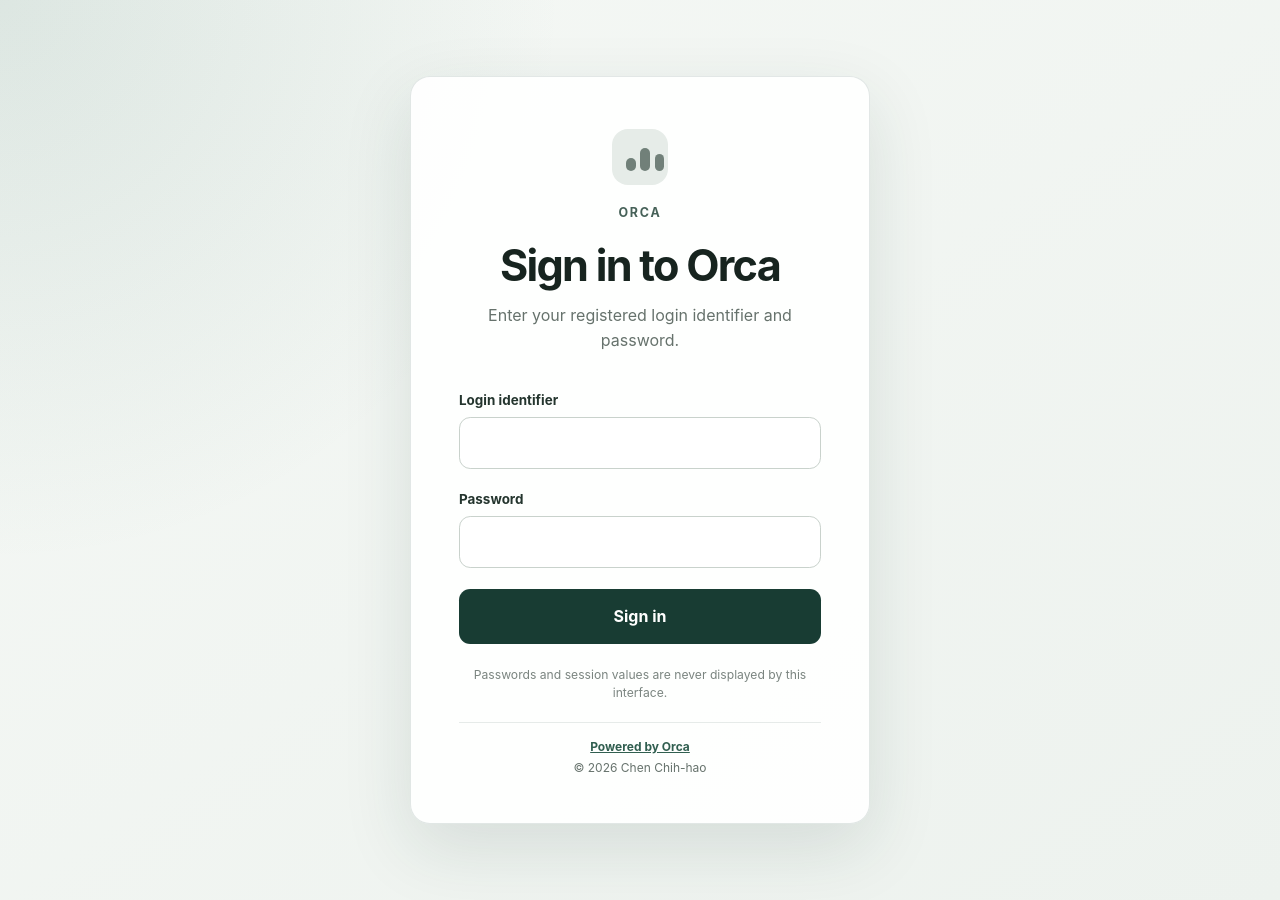
Test: frontend login result shell › does not show a login reference for another stable API error
The width and height of the screenshot is (1280, 900).
Type "orca-user" into the field labelled "Login identifier" at (640, 443), box [459, 417, 821, 469]
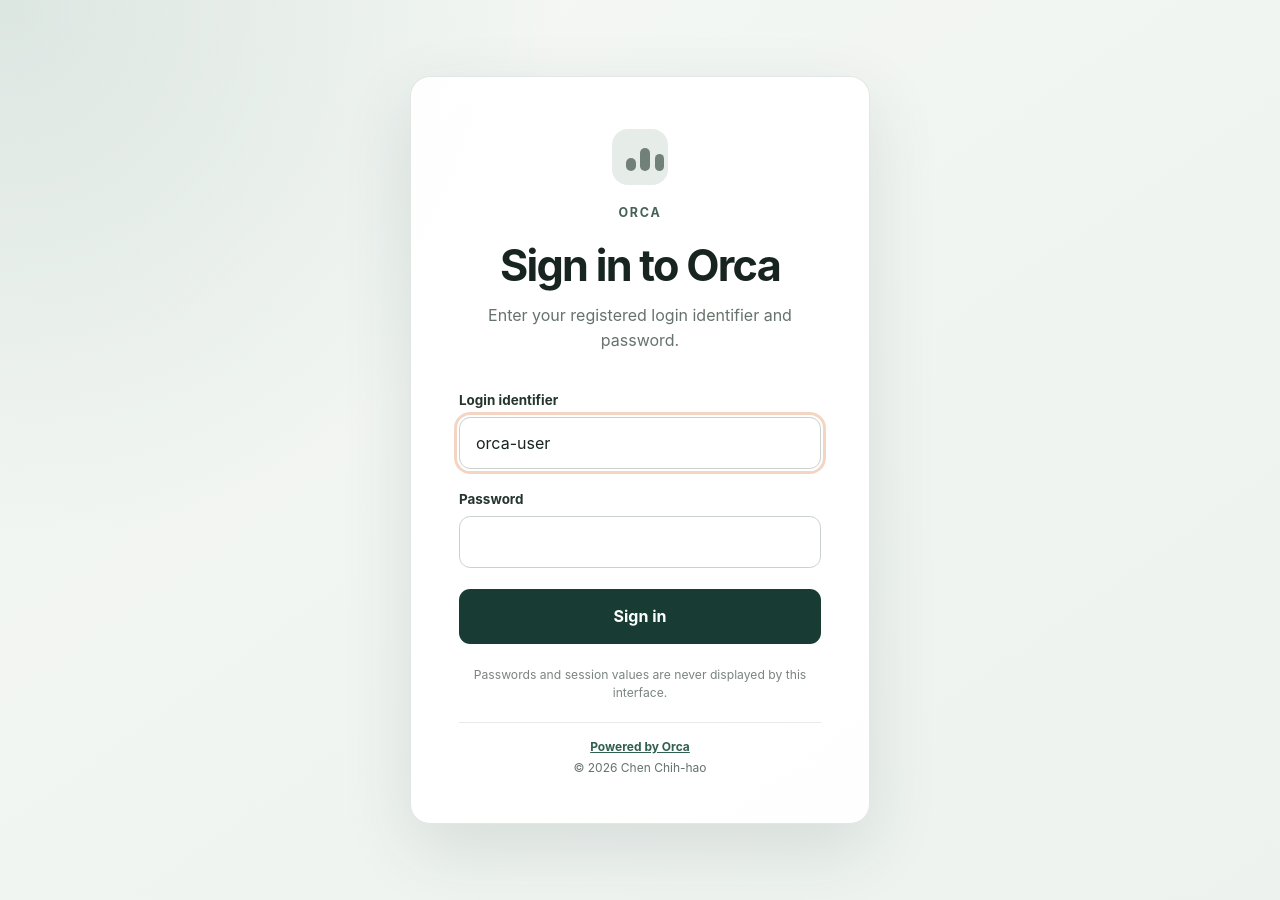
Type "password" into the password field labelled "Password" at (640, 542), box [459, 516, 821, 568]
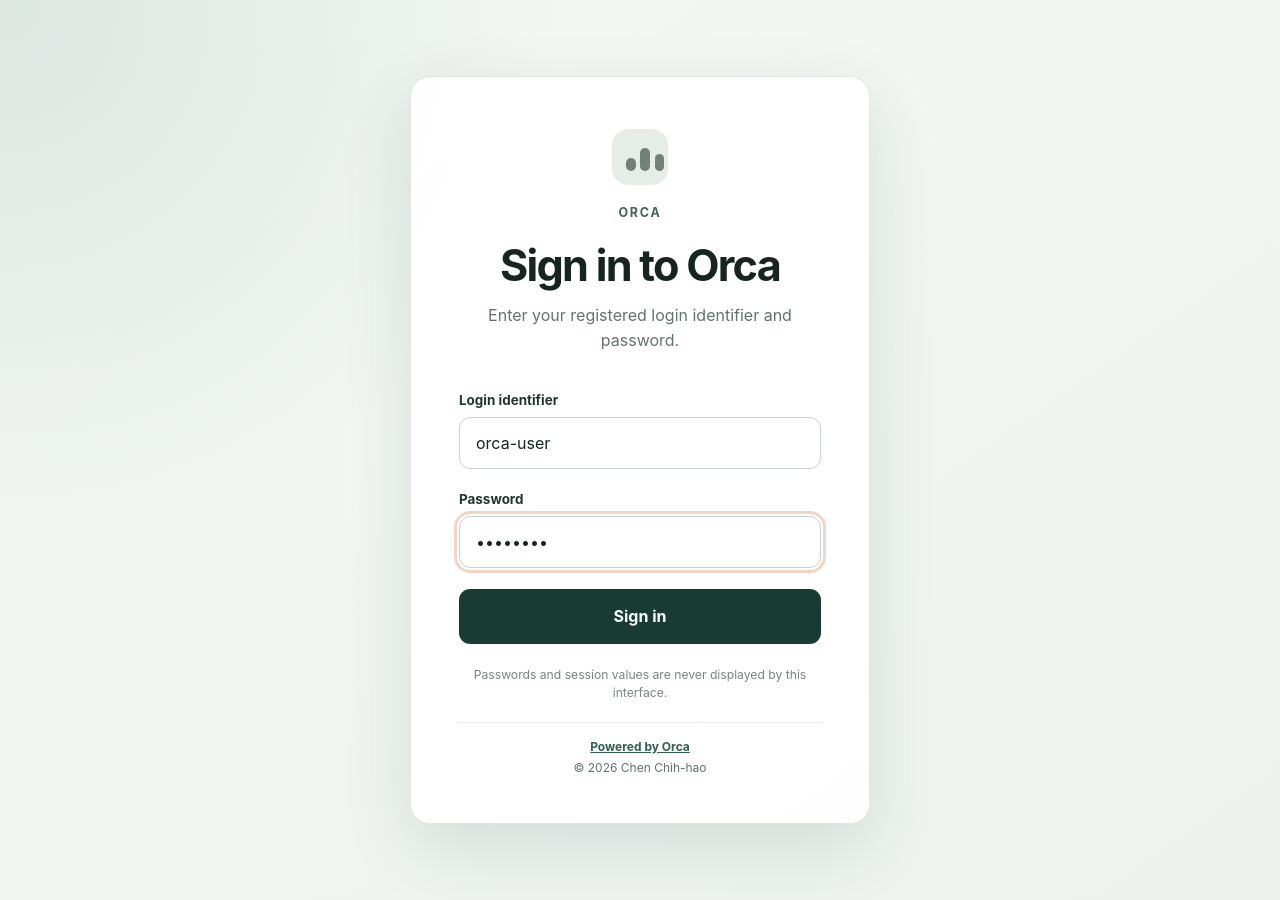
Click the button "Sign in" at (640, 616), box [459, 589, 821, 644]
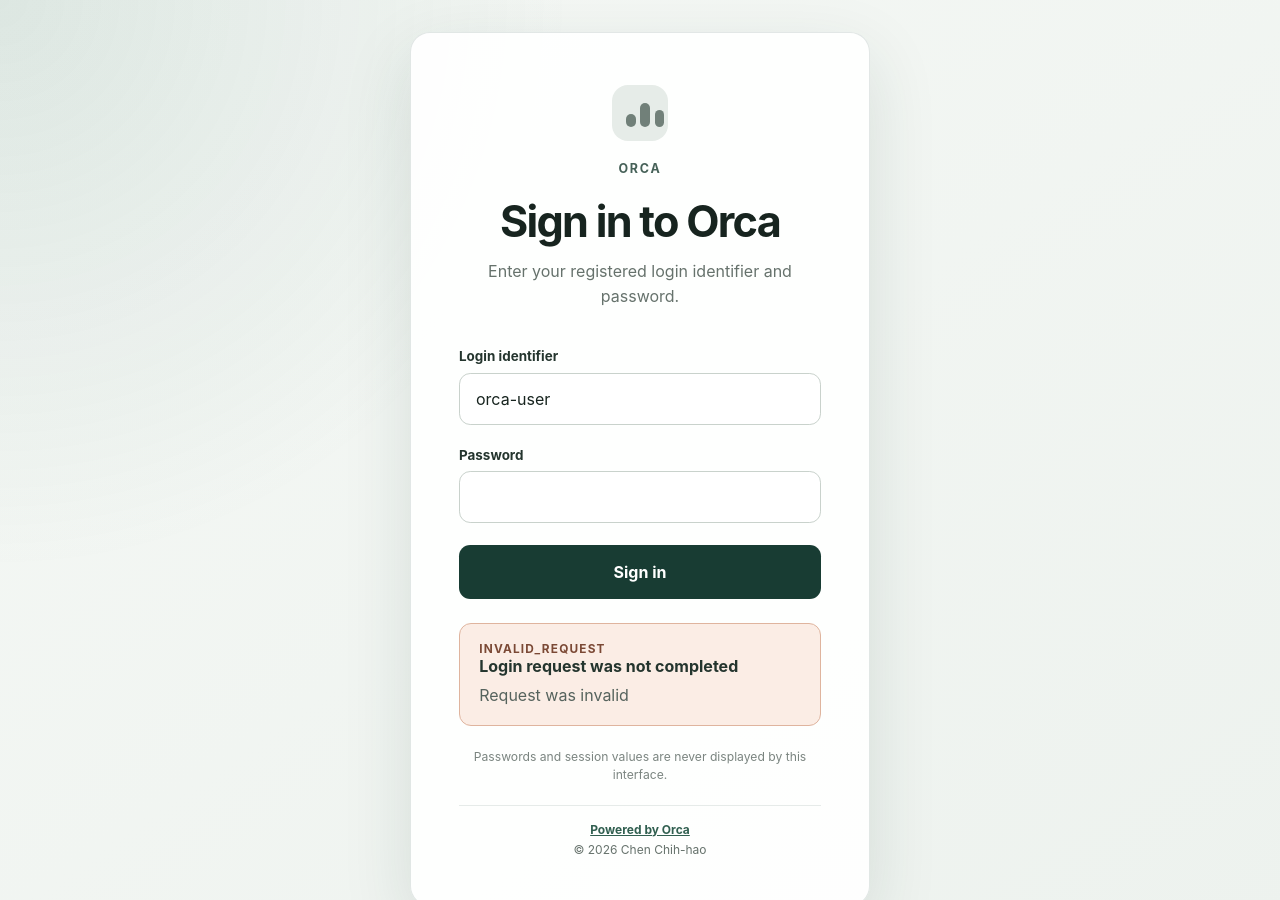
Now the message shows "INVALID_REQUEST", box [479, 642, 606, 656]
